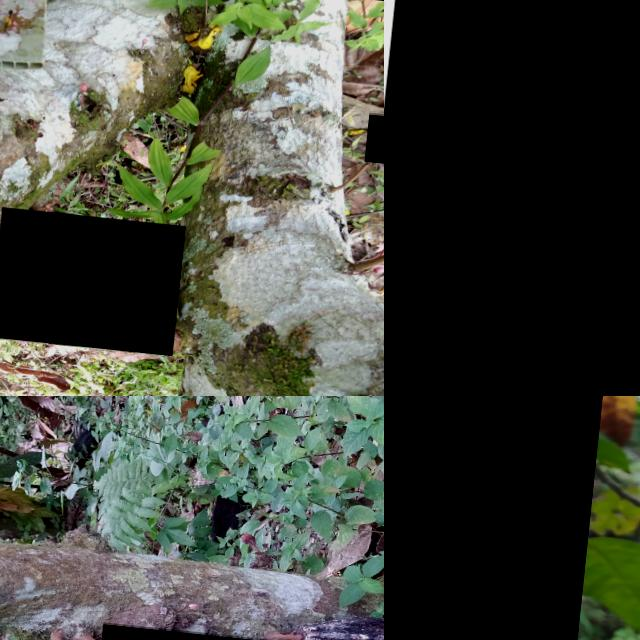Fitoftora: (384, 0, 640, 396), (0, 202, 191, 347)
Monilia: (384, 396, 622, 640), (102, 617, 348, 640), (299, 603, 384, 640)
Sana: (367, 100, 384, 150)
